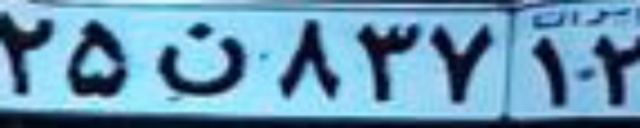1: (530, 37, 569, 105)
2: (0, 10, 54, 97), (591, 34, 638, 107)
3: (351, 19, 420, 102)
5: (63, 18, 131, 97)
7: (428, 20, 495, 105)
8: (274, 18, 341, 101)
non: (155, 21, 246, 96)
